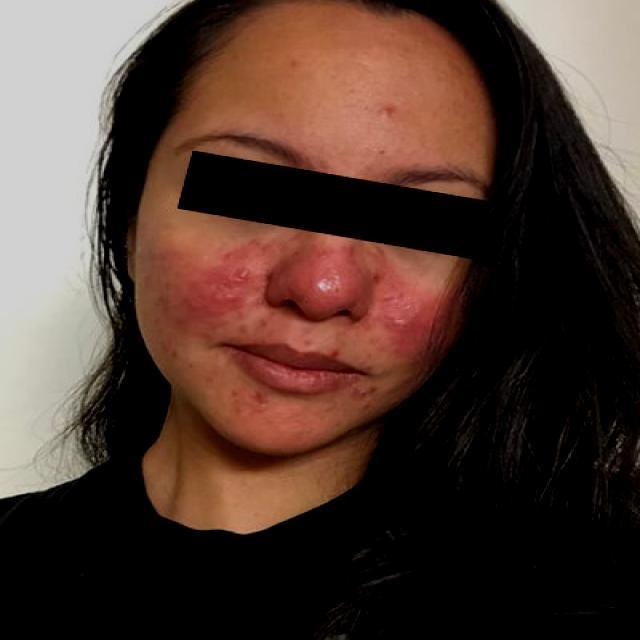Rosacea: (142, 232, 274, 354), (266, 227, 368, 321), (361, 256, 446, 356)
